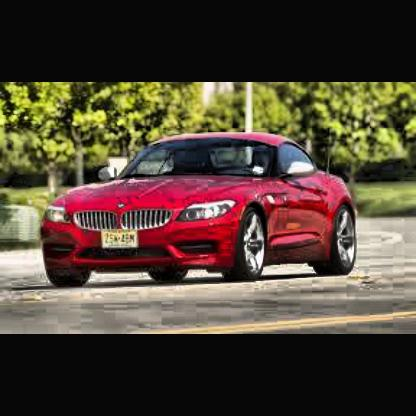BMW Z4 Convertible 2012: (41, 134, 361, 288)
